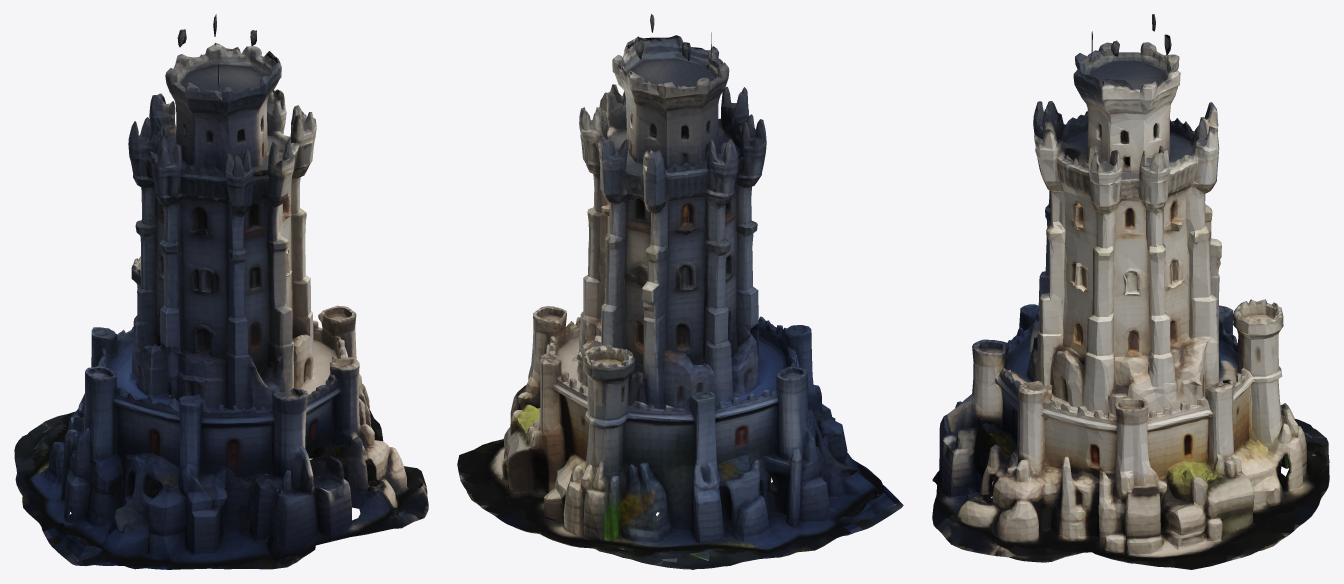
Rendered from castle_main_tower.glb.
The picture shows the model from 3 angles, left to right: view 1: azimuth 30°, elevation 25°; view 2: azimuth 150°, elevation 25°; view 3: azimuth 270°, elevation 25°; orthographic projection.
Parts seen in each view (by area): view 1: world; view 2: world; view 3: world.
Part boxes in pixels (box(x1,y1,x2,y2)): world: box(14, 14, 428, 569); world: box(457, 14, 903, 569); world: box(932, 14, 1329, 569).
Bounding box in the file's own units: 10 × 11.93 × 9.19.
1 material, 1 textured.
